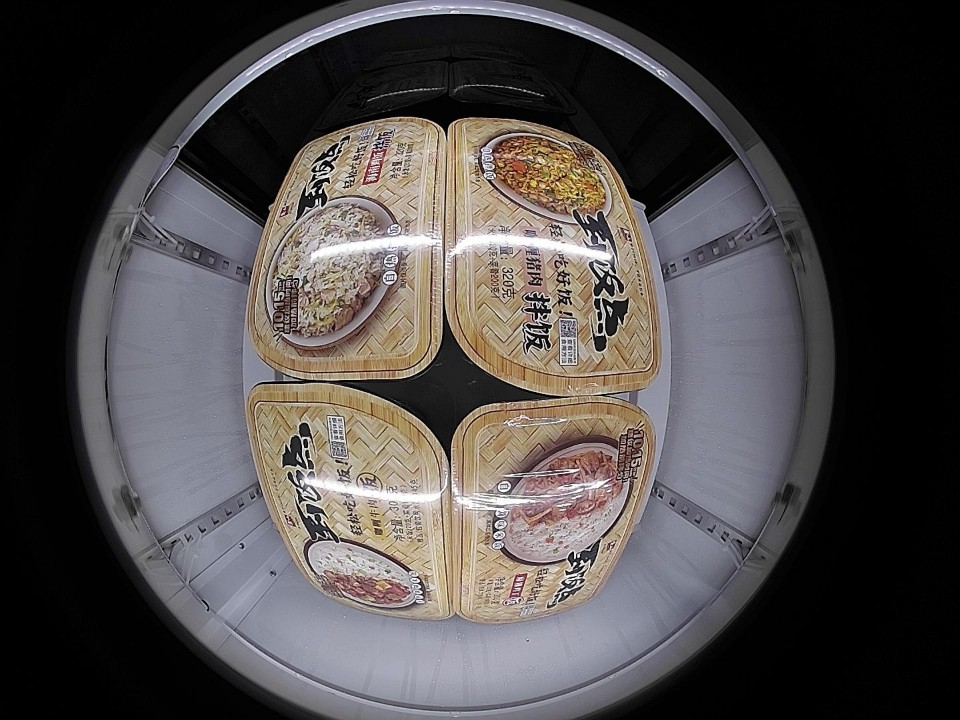daofandian1: (249, 115, 449, 383)
daofandian2: (248, 378, 455, 620)
daofandian3: (443, 115, 660, 397)
daofandian4: (449, 396, 655, 622)
